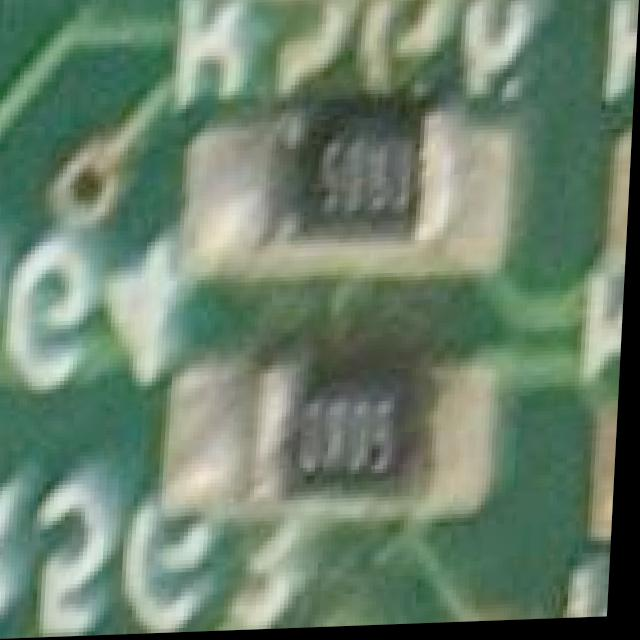resistor: (277, 79, 504, 260), (226, 362, 455, 525), (291, 0, 464, 12)
